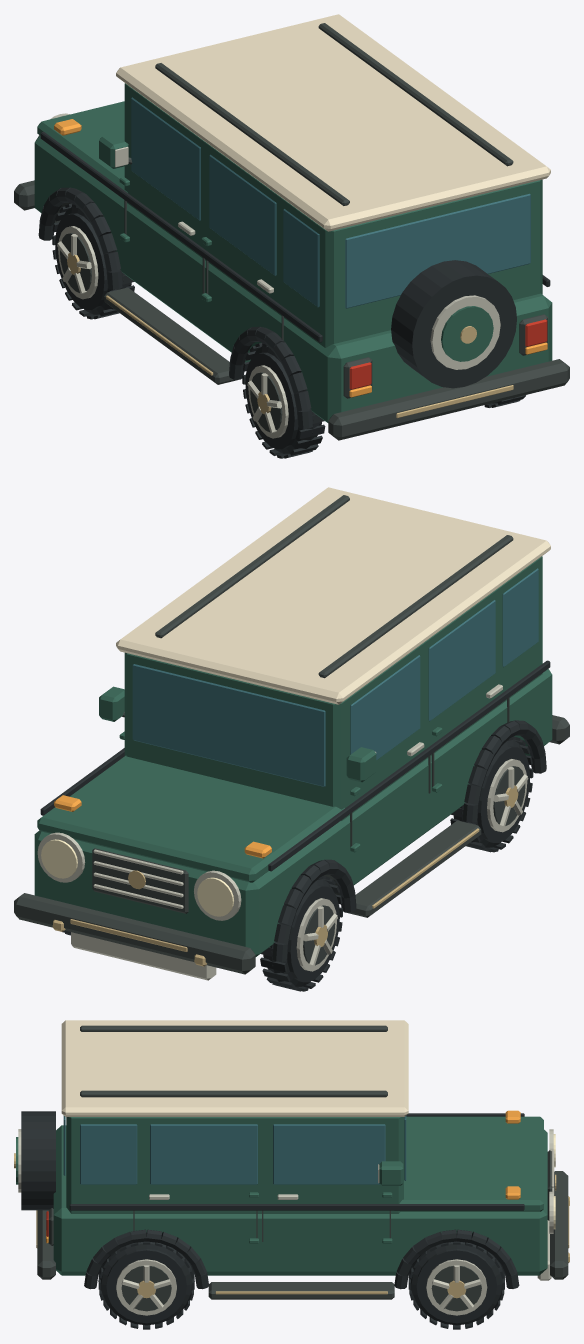
Rendered from mayormobile.glb.
3 views of the same model, one above another, from view 1: azimuth 30°, elevation 25°; view 2: azimuth 150°, elevation 25°; view 3: azimuth 270°, elevation 25° (orthographic). The views are drawn at different scales.
Parts seen in each view (by area): view 1: Ivory hardtop, MayormobileModel Juniper green, MayormobileModel Teal canopy, MayormobileModel Rubber charcoal, MayormobileModel Dark grille, Spin.001 Rubber charcoal, Spin Rubber charcoal, MayormobileModel Warm alloy, MayormobileModel Satin brass, Spin.001 Warm alloy, Spin Warm alloy, MayormobileModel Red lamp (+3 smaller); view 2: MayormobileModel Juniper green, Ivory hardtop, MayormobileModel Teal canopy, MayormobileModel Dark grille, MayormobileModel Rubber charcoal, MayormobileModel Warm alloy, Spin Rubber charcoal, Spin.001 Rubber charcoal, MayormobileModel Ivory lamp, MayormobileModel Satin brass, Spin.001 Warm alloy, Spin Warm alloy (+3 smaller); view 3: MayormobileModel Juniper green, Ivory hardtop, MayormobileModel Teal canopy, MayormobileModel Rubber charcoal, MayormobileModel Dark grille, Spin.002 Rubber charcoal, Spin.003 Rubber charcoal, Spin.002 Warm alloy, Spin.003 Warm alloy, MayormobileModel Warm alloy, Spin.003 Dark grille, Spin.002 Dark grille (+2 smaller).
Boxes of the visible parts, bbox=[...] form: Ivory hardtop: bbox=[116, 14, 550, 231]; MayormobileModel Juniper green: bbox=[34, 83, 552, 422]; MayormobileModel Teal canopy: bbox=[131, 97, 530, 308]; MayormobileModel Rubber charcoal: bbox=[38, 131, 550, 428]; MayormobileModel Dark grille: bbox=[14, 23, 569, 440]; Spin.001 Rubber charcoal: bbox=[242, 343, 325, 458]; Spin Rubber charcoal: bbox=[52, 203, 134, 319]; MayormobileModel Warm alloy: bbox=[38, 113, 500, 369]; MayormobileModel Satin brass: bbox=[106, 295, 513, 418]; Spin.001 Warm alloy: bbox=[247, 365, 288, 438]; Spin Warm alloy: bbox=[57, 226, 98, 299]; MayormobileModel Red lamp: bbox=[349, 319, 547, 389]; MayormobileModel Juniper green: bbox=[34, 556, 552, 956]; Ivory hardtop: bbox=[116, 487, 550, 704]; MayormobileModel Teal canopy: bbox=[132, 568, 538, 786]; MayormobileModel Dark grille: bbox=[14, 495, 569, 974]; MayormobileModel Rubber charcoal: bbox=[40, 660, 550, 961]; MayormobileModel Warm alloy: bbox=[37, 684, 502, 980]; Spin Rubber charcoal: bbox=[260, 875, 342, 991]; Spin.001 Rubber charcoal: bbox=[450, 736, 533, 852]; MayormobileModel Ivory lamp: bbox=[41, 839, 233, 916]; MayormobileModel Satin brass: bbox=[52, 828, 479, 966]; Spin.001 Warm alloy: bbox=[487, 759, 528, 832]; Spin Warm alloy: bbox=[296, 898, 337, 971]; MayormobileModel Juniper green: bbox=[16, 1116, 547, 1275]; Ivory hardtop: bbox=[61, 1020, 408, 1116]; MayormobileModel Teal canopy: bbox=[63, 1115, 406, 1184]; MayormobileModel Rubber charcoal: bbox=[21, 1111, 524, 1289]; MayormobileModel Dark grille: bbox=[37, 1025, 568, 1299]; Spin.002 Rubber charcoal: bbox=[408, 1241, 504, 1329]; Spin.003 Rubber charcoal: bbox=[98, 1241, 194, 1329]; Spin.002 Warm alloy: bbox=[426, 1259, 487, 1315]; Spin.003 Warm alloy: bbox=[116, 1259, 176, 1315]; MayormobileModel Warm alloy: bbox=[18, 1129, 554, 1280]; Spin.003 Dark grille: bbox=[121, 1266, 171, 1311]; Spin.002 Dark grille: bbox=[431, 1266, 481, 1311].
Bounding box in the file's own units: 2.2 × 2.16 × 4.84.
